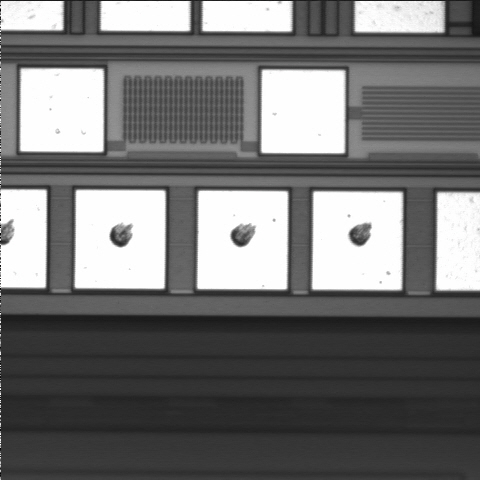pad: (197, 191, 288, 289), (75, 190, 165, 289), (312, 192, 402, 290), (20, 69, 104, 152), (261, 70, 345, 153)
